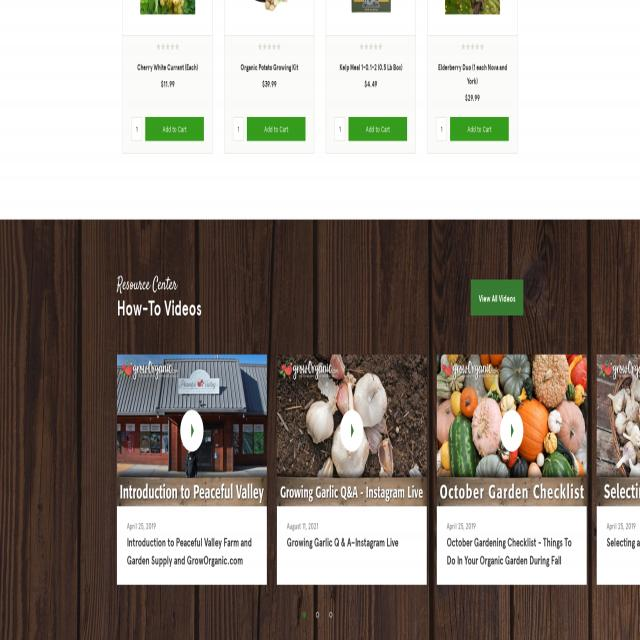button: (117, 354, 267, 585), (277, 354, 427, 584), (437, 354, 586, 585), (596, 353, 640, 585), (471, 280, 523, 316), (450, 117, 509, 141), (146, 117, 204, 141), (247, 117, 305, 141), (349, 117, 407, 141)
field: (131, 117, 142, 141), (436, 117, 447, 141), (233, 117, 243, 141), (335, 117, 345, 141)
